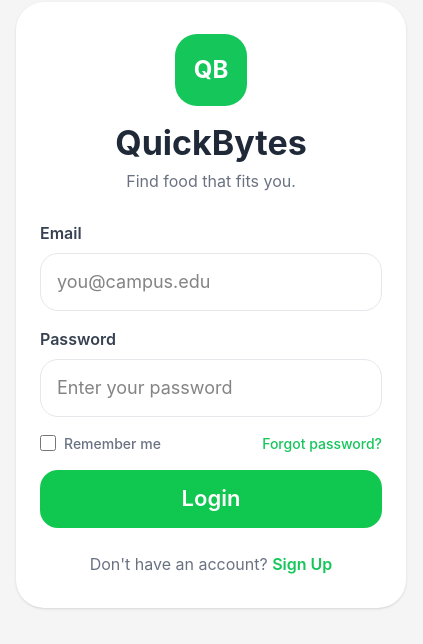
Test case: Login › stores the authenticated user after a successful login
Type "student@unt.edu" into the field labelled "Email". click: (211, 282)
box: [40,253,382,311]
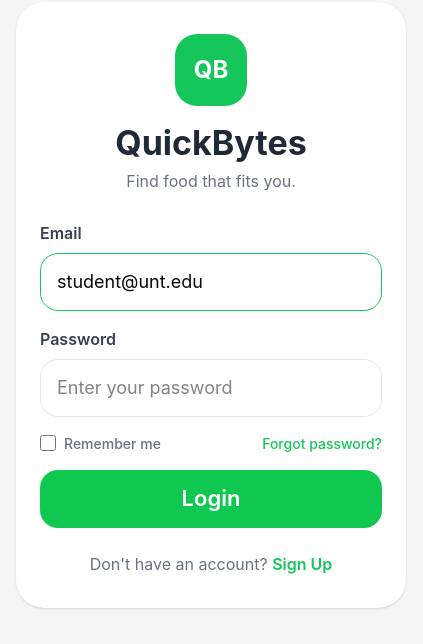
Type "Password123" into the password field labelled "Password". click: (211, 388)
box: [40,359,382,417]
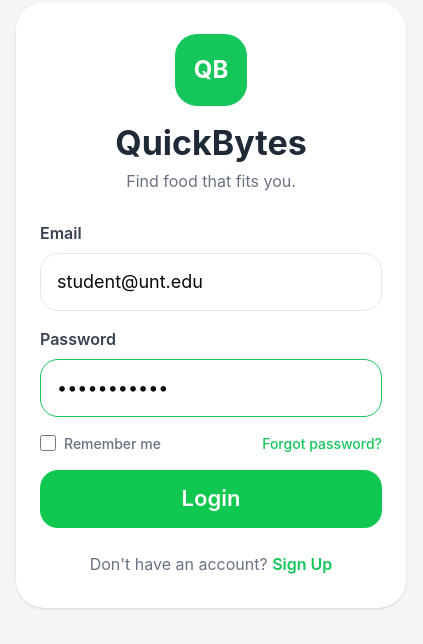
Click the button "Login". click: (211, 499)
box: [40,470,382,528]
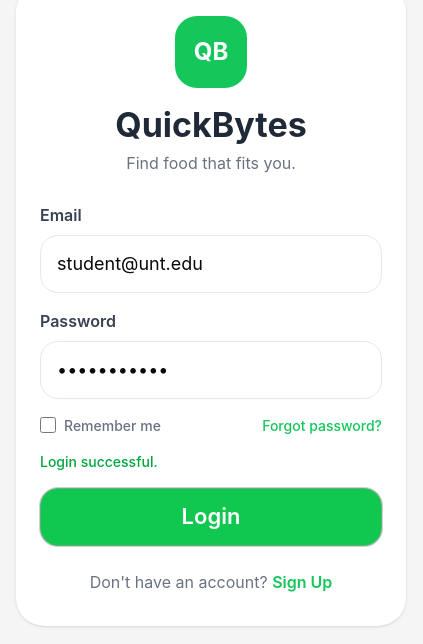
Now the text "Login successful." is shown, box [40,453,158,470]
